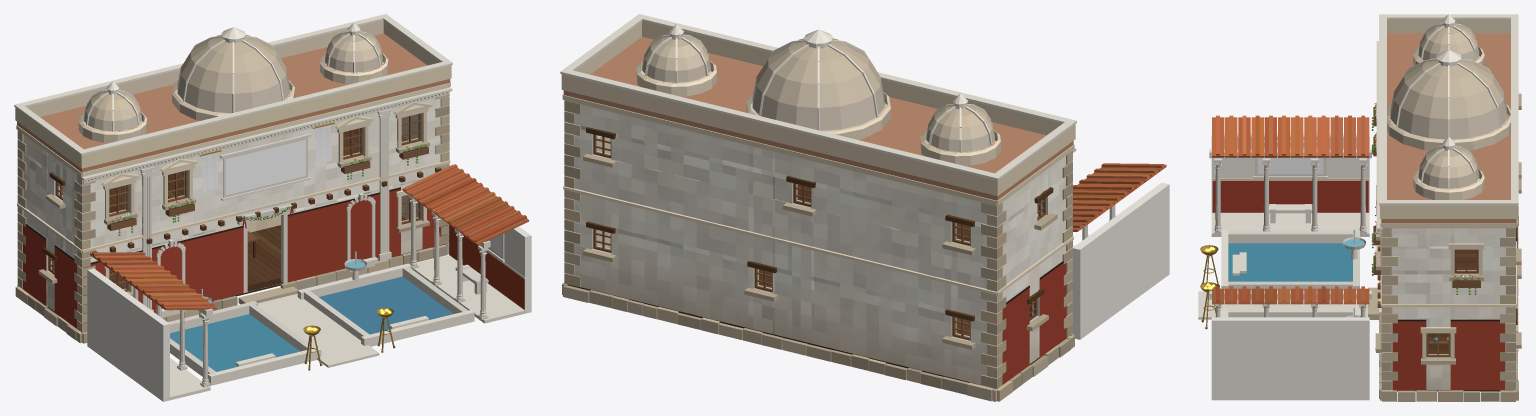
File: civ_baths.glb
The picture shows the model from 3 angles, left to right: view 1: azimuth 30°, elevation 25°; view 2: azimuth 150°, elevation 25°; view 3: azimuth 270°, elevation 25°; orthographic projection. The views are drawn at different scales.
Parts seen in each view (by area): view 1: House, Walls, Rooms; view 2: House, Walls, Rooms; view 3: House, Walls, Rooms.
Part boxes in pixels (x1,y1,x2,y2): House: [14, 14, 531, 401]; Walls: [23, 97, 445, 320]; Rooms: [62, 114, 417, 289]; House: [560, 14, 1169, 401]; Walls: [567, 105, 1066, 384]; Rooms: [597, 136, 1038, 336]; House: [1198, 14, 1521, 401]; Walls: [1383, 228, 1514, 389]; Rooms: [1428, 249, 1476, 353].
Size of the model in its own units: 10.42 by 6.46 by 7.35.
9 materials, 9 textured.
